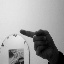g: (19, 28, 58, 59)
